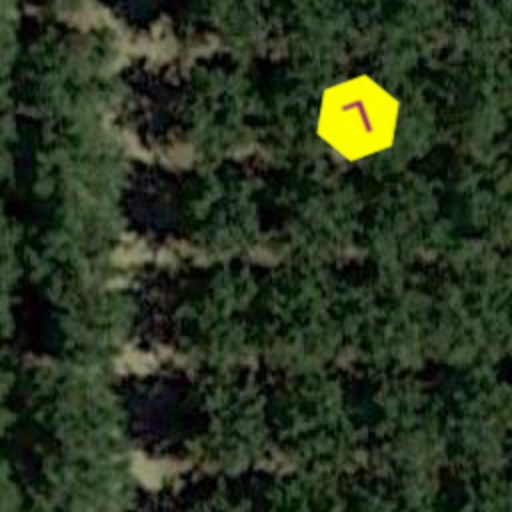hexagon: (300, 60, 416, 176)
